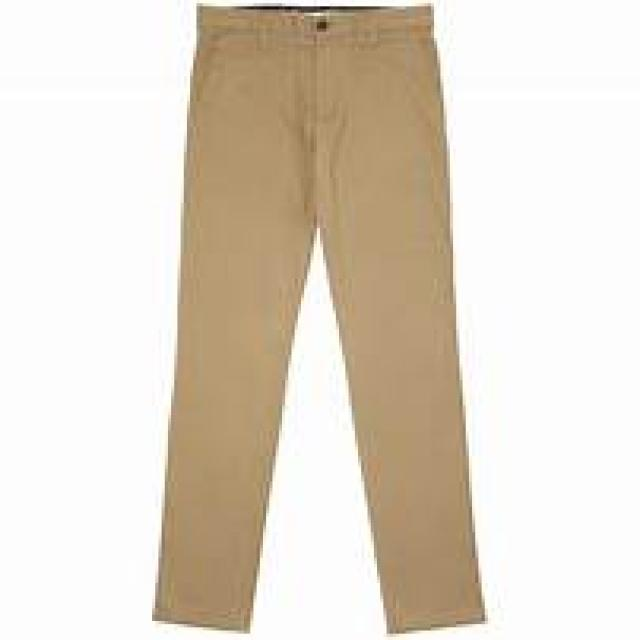long-pants: (152, 0, 488, 630)
